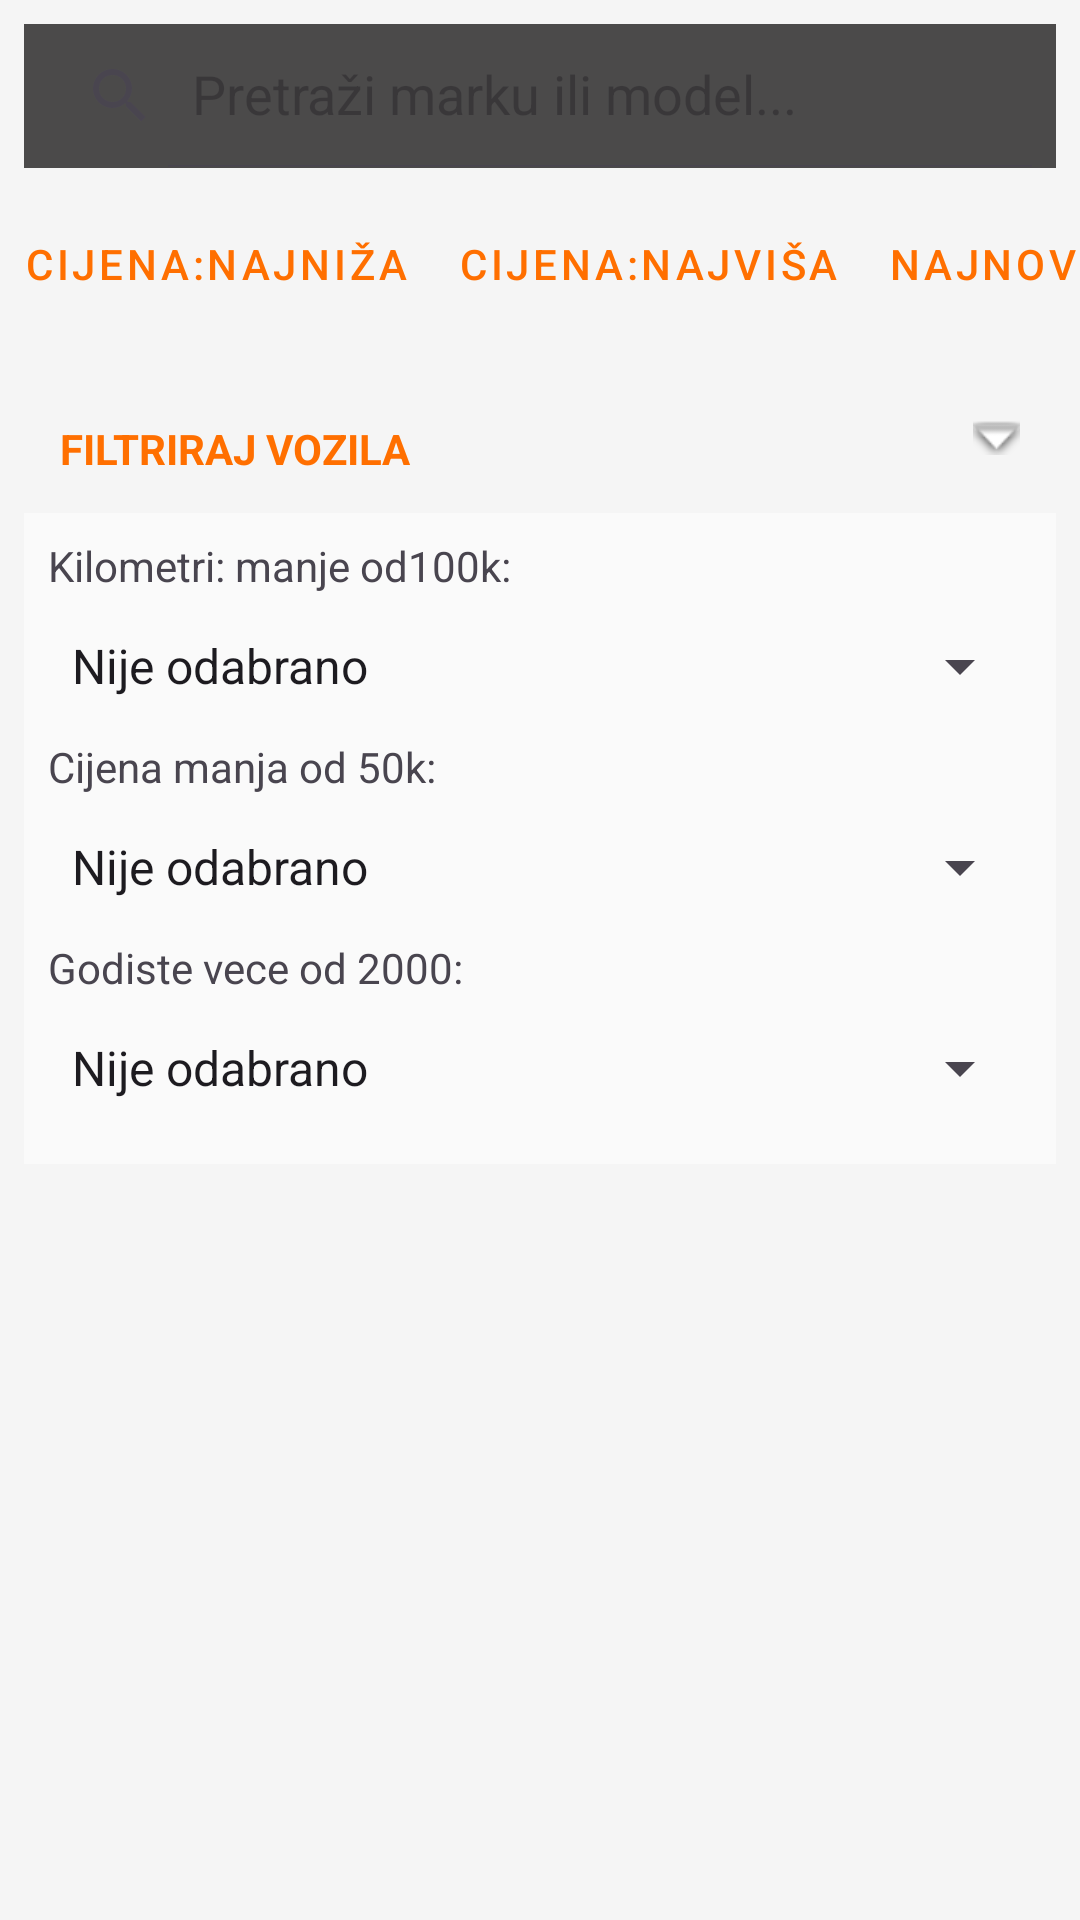

Screen size 1080*1920. Icon name, then its center in pixels as (x=x, y=y):
arrow down float: (x=996, y=438)
